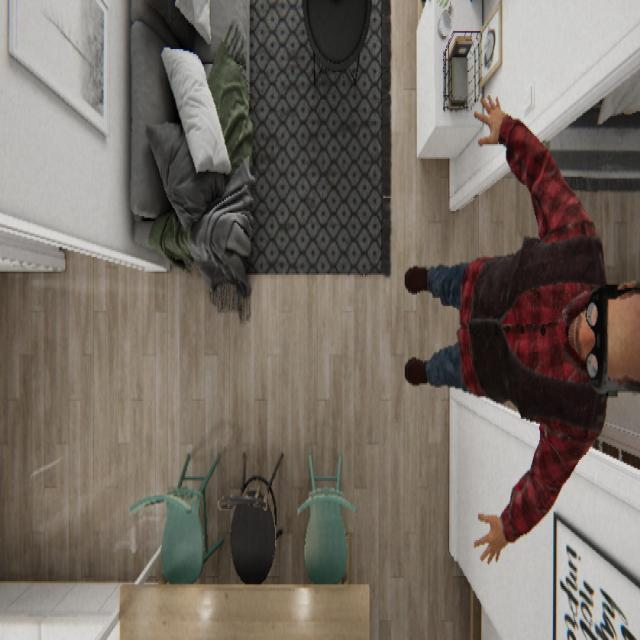Human: (402, 91, 638, 564)
